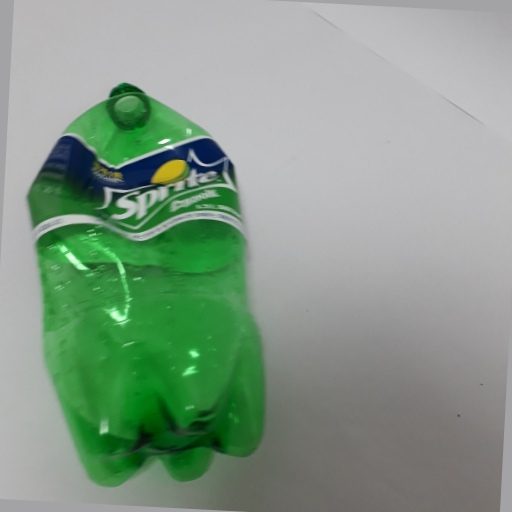Plastic_0: (23, 77, 270, 492)
